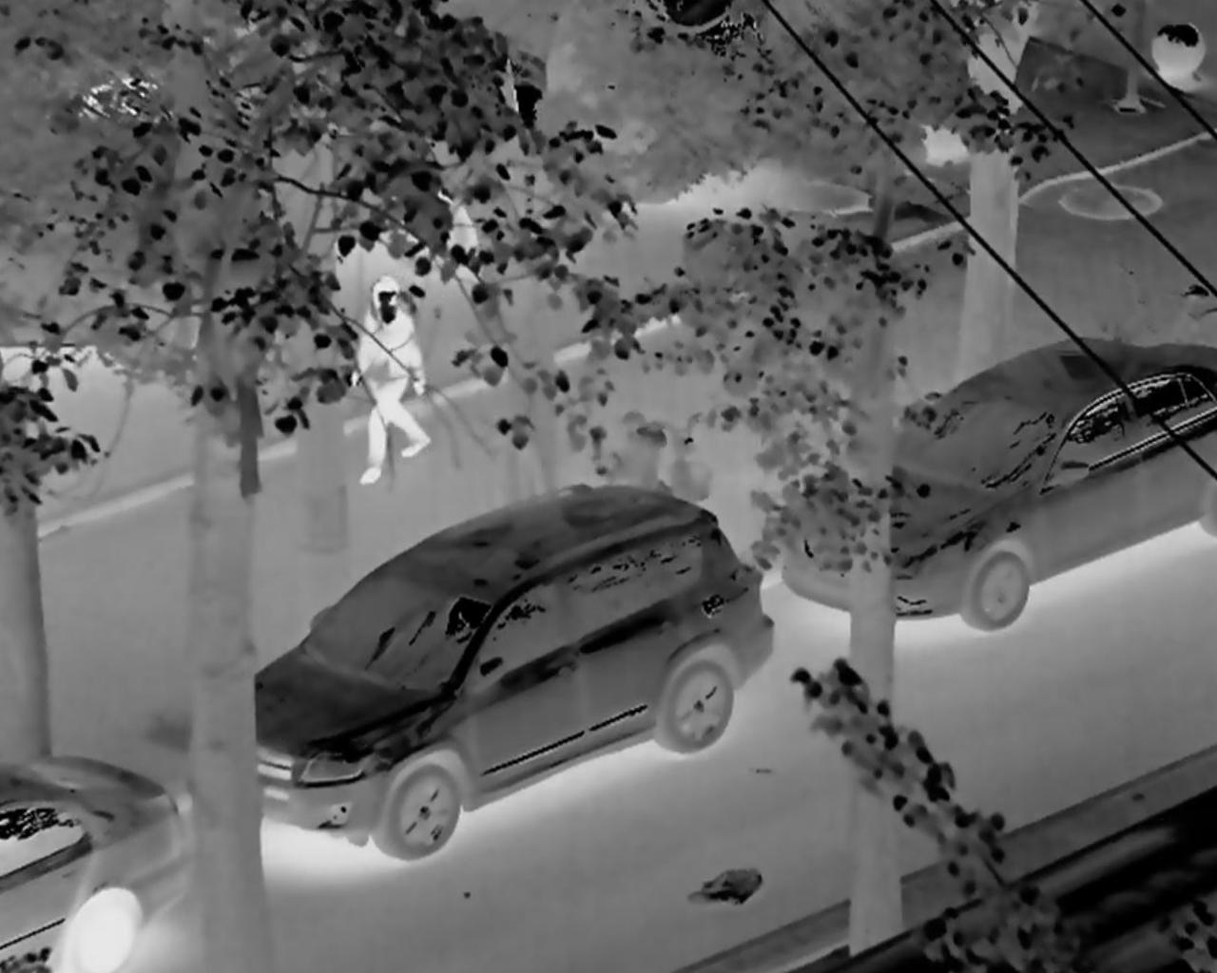person: (337, 277, 432, 486)
